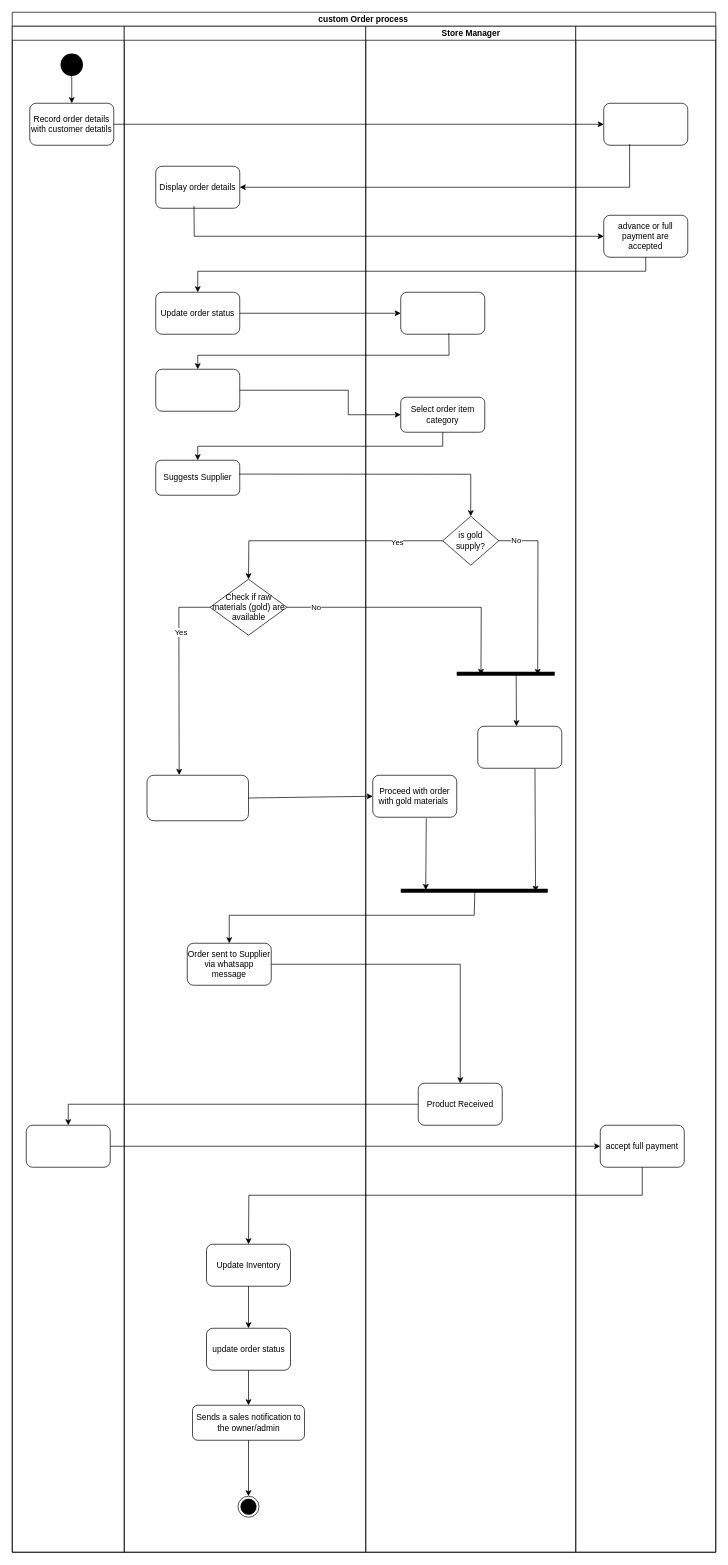
Some shapes in this 728 by 1565 pixel diagram are drawn without their labels. Here are the shapes that lost their labels. From the top down, the box of each, then its label:
(603, 103, 688, 145): Check order details
(400, 292, 485, 334): check incomplete custom orders
(155, 369, 240, 411): DisplayCustom orders with status
(477, 726, 562, 768): Proceed with order without gold materials
(12, 26, 124, 1552): Sales Associate
(146, 775, 248, 821): Deduct raw materials from the stock
(124, 26, 366, 1552): System
(575, 26, 716, 1552): Cashier
(26, 1125, 110, 1167): Inform to the customer
